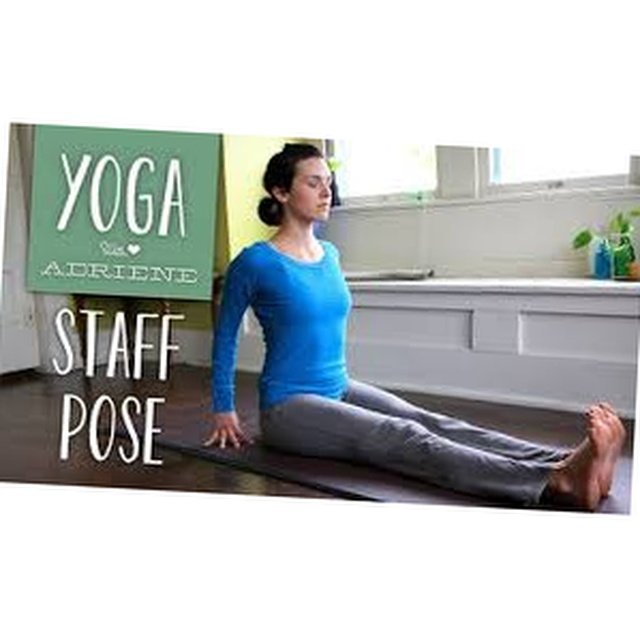Staff_Pose: (204, 143, 626, 514)
